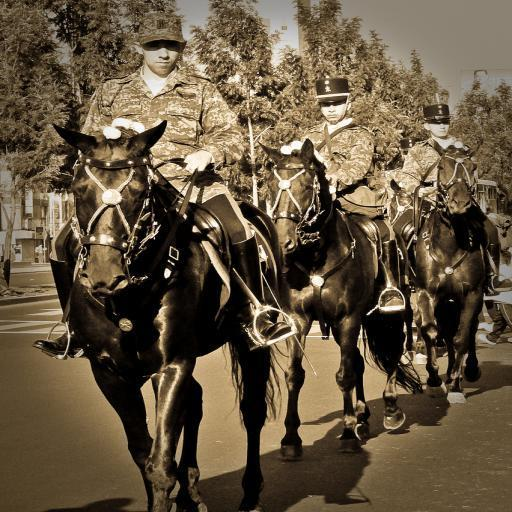horse: (53, 124, 295, 511), (254, 138, 425, 460), (404, 138, 492, 404)
